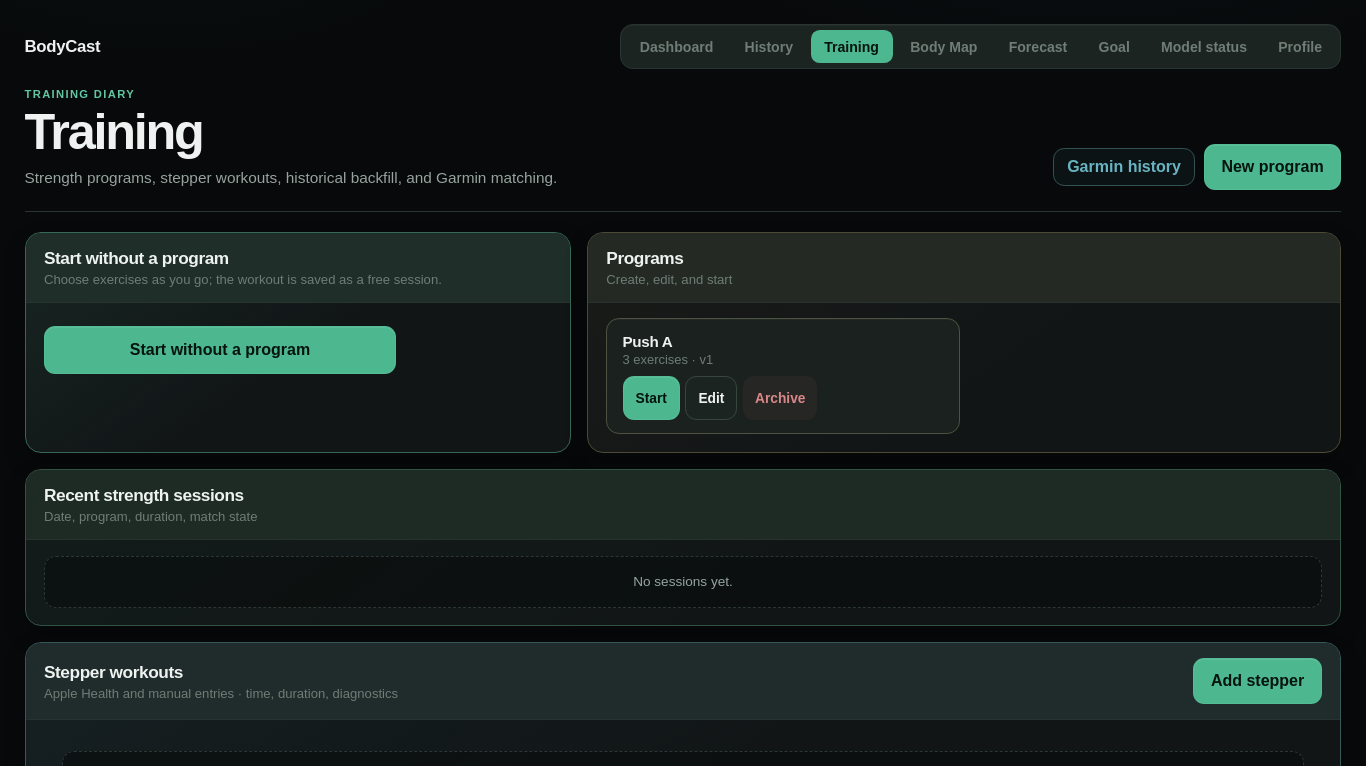
it: Training hub UI › styles Archive as a destructive control and confirms before archive
Check: the text "Push A" is shown, box [622,333,672,350]
Click the button "Archive" at {"x": 780, "y": 398}, box [743,376,818,420]
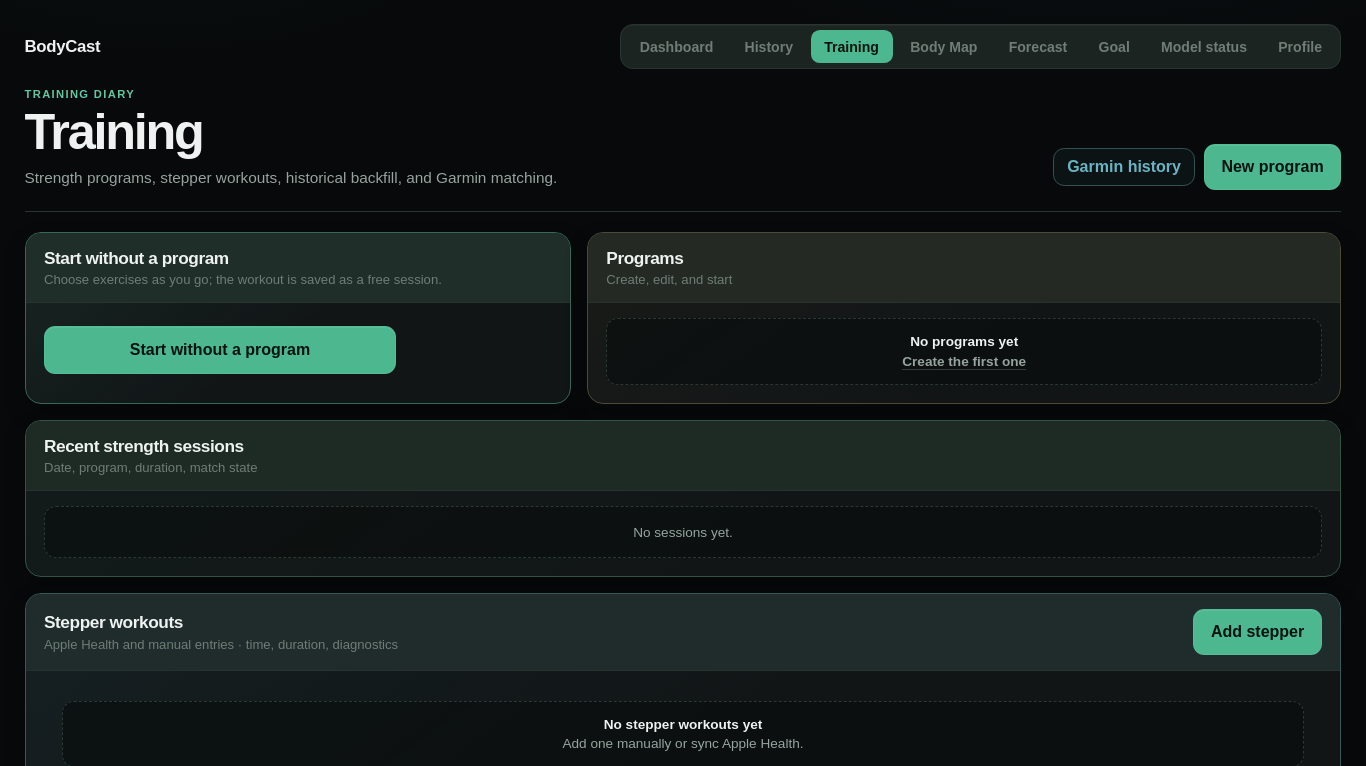
Check: the text "Push A" is gone
